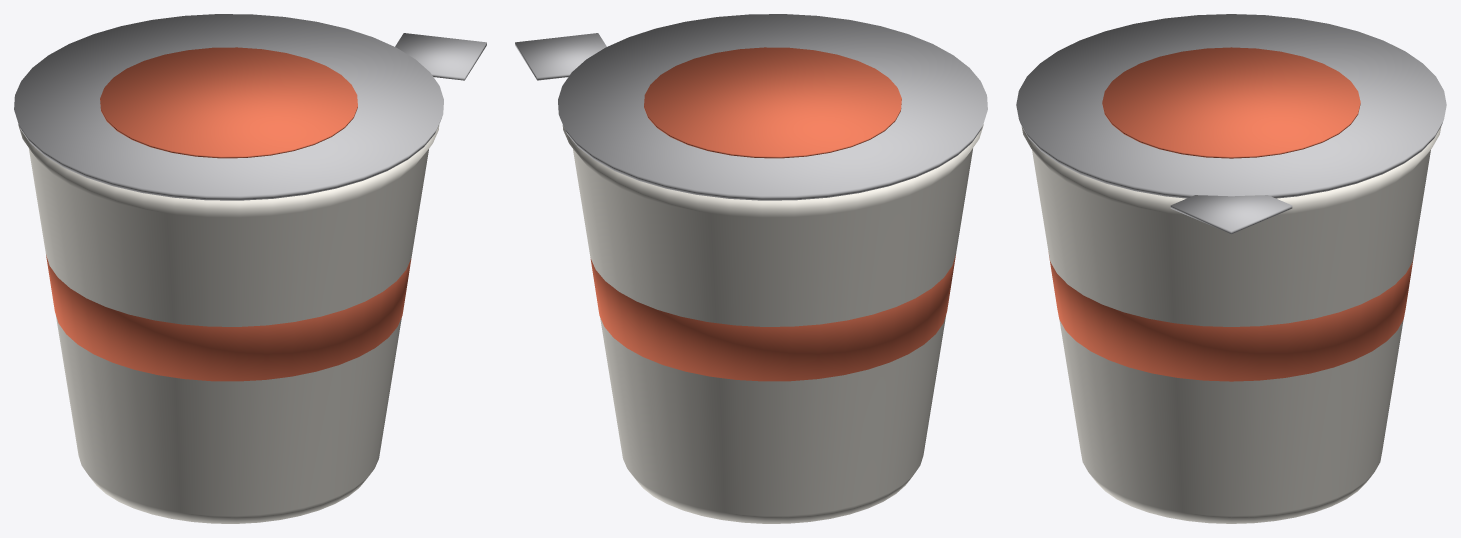
Rendered from SM_Sodd.glb.
The picture shows the model from 3 angles, left to right: view 1: azimuth 30°, elevation 25°; view 2: azimuth 150°, elevation 25°; view 3: azimuth 270°, elevation 25°; orthographic projection.
Parts seen in each view (by area): view 1: SM_Sodd; view 2: SM_Sodd; view 3: SM_Sodd.
Boxes of the visible parts, x1,y1,x2,y2 form: SM_Sodd: [14, 14, 486, 523]; SM_Sodd: [515, 14, 987, 523]; SM_Sodd: [1016, 14, 1446, 523].
Size of the model in its own units: 0.1191 by 0.0927 by 0.1.
